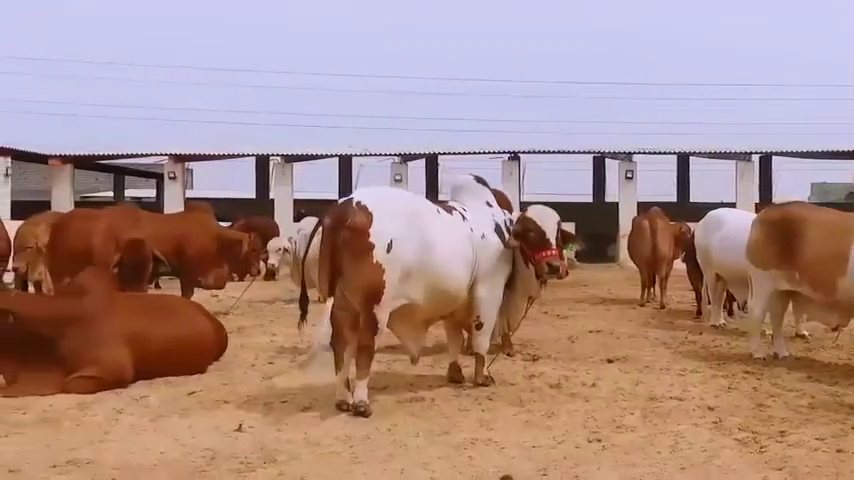bo: (292, 189, 592, 436), (2, 268, 228, 412), (678, 198, 820, 344), (743, 196, 854, 382), (146, 203, 265, 313), (617, 195, 688, 315), (55, 207, 152, 286), (250, 219, 332, 308), (2, 200, 57, 296), (229, 213, 276, 250)
